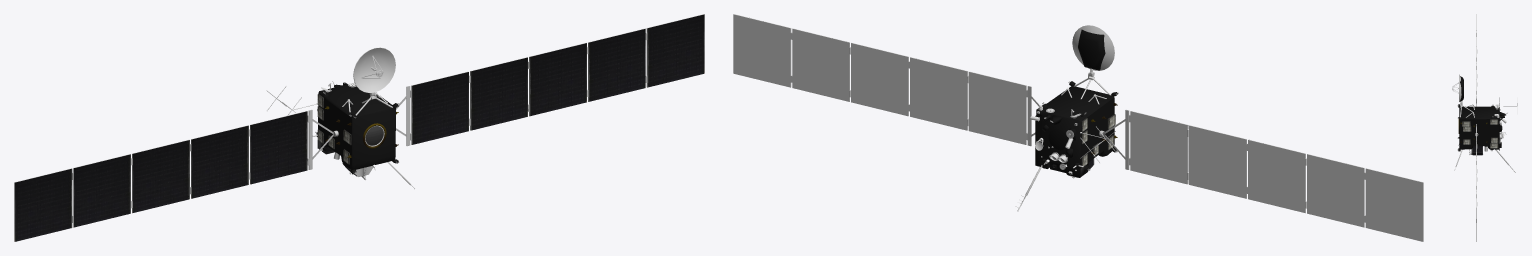
The model's file is space-rosetta.glb.
3 views of the same model, side by side, from view 1: azimuth 30°, elevation 25°; view 2: azimuth 150°, elevation 25°; view 3: azimuth 270°, elevation 25° (orthographic). The views are drawn at different scales.
Visible parts, largest first — view 1: panels_01, dish, black_krinkle, foil_silver; view 2: dish, black_krinkle, panels_01; view 3: black_krinkle, dish, panels_01, foil_gold.
Boxes of the visible parts, <box> form: panels_01: <box>14,14,704,241</box>; dish: <box>14,14,703,241</box>; black_krinkle: <box>316,82,398,174</box>; foil_silver: <box>318,126,383,153</box>; dish: <box>733,14,1423,241</box>; black_krinkle: <box>1035,29,1117,177</box>; panels_01: <box>1081,114,1188,183</box>; black_krinkle: <box>1458,76,1505,150</box>; dish: <box>1452,14,1517,241</box>; panels_01: <box>1462,119,1498,155</box>; foil_gold: <box>1458,119,1487,142</box>.
Bounding box in the file's own units: 31.96 × 6.92 × 4.55.
7 materials, 5 textured.
